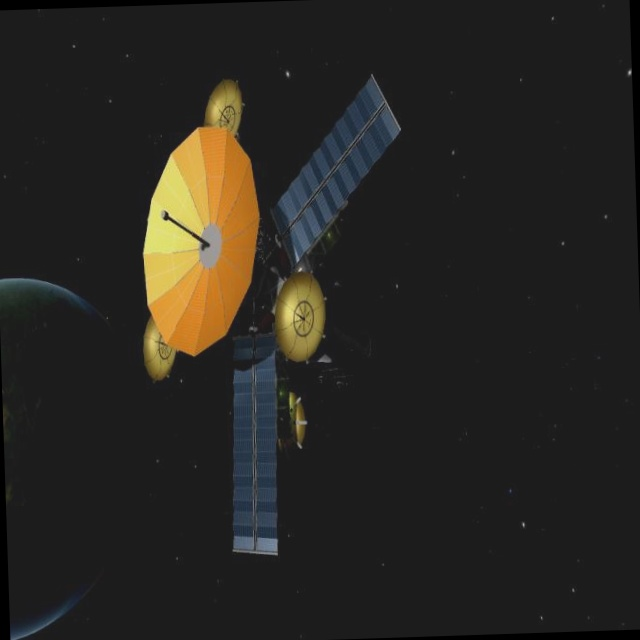medium_debris: (131, 33, 433, 584)
